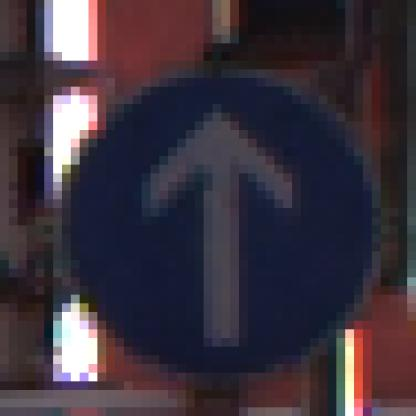AheadOnly: (54, 44, 364, 365)
